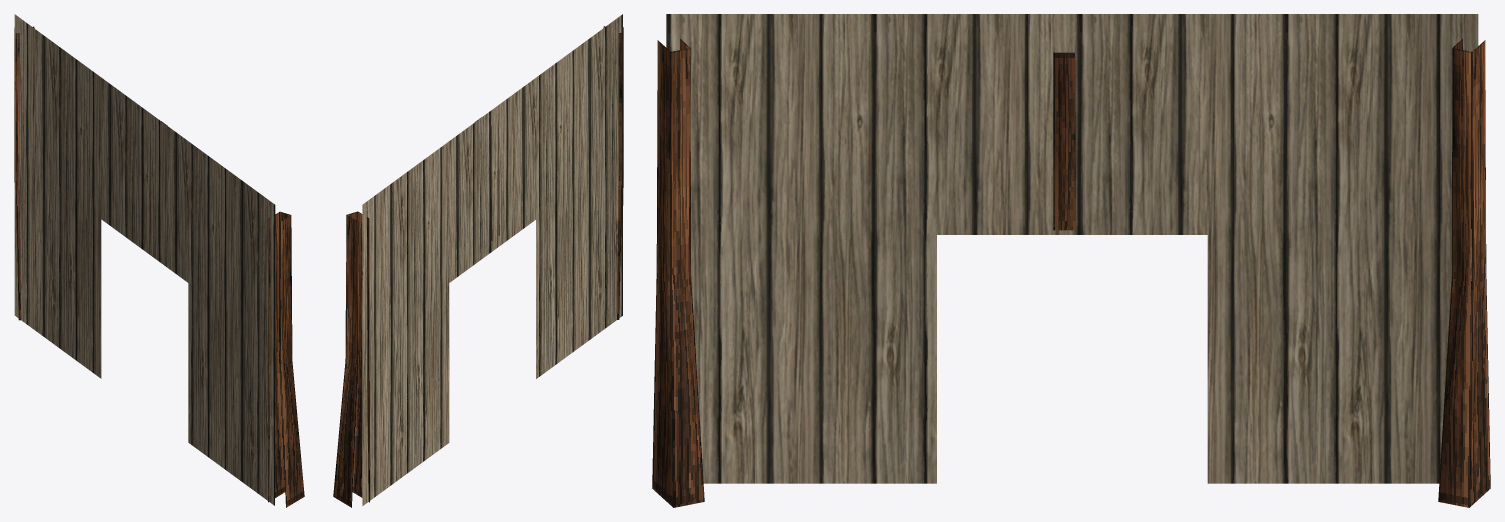
Rendered from LAKETOWN_WAREHOUSE2_PS_WH2_FRONTWALL47474__GX.obj.
3 views of the same model, side by side, from view 1: azimuth 30°, elevation 25°; view 2: azimuth 150°, elevation 25°; view 3: azimuth 270°, elevation 25° (orthographic). The views are drawn at different scales.
Parts seen in each view (by area): view 1: ntWall47474__GX; view 2: ntWall47474__GX; view 3: ntWall47474__GX.
Boxes of the visible parts, box(x1,y1,x2,y2) form: ntWall47474__GX: box(14, 14, 304, 507); ntWall47474__GX: box(333, 14, 623, 507); ntWall47474__GX: box(652, 14, 1490, 507).
Size of the model in its own units: 63.3 by 522 by 844.
